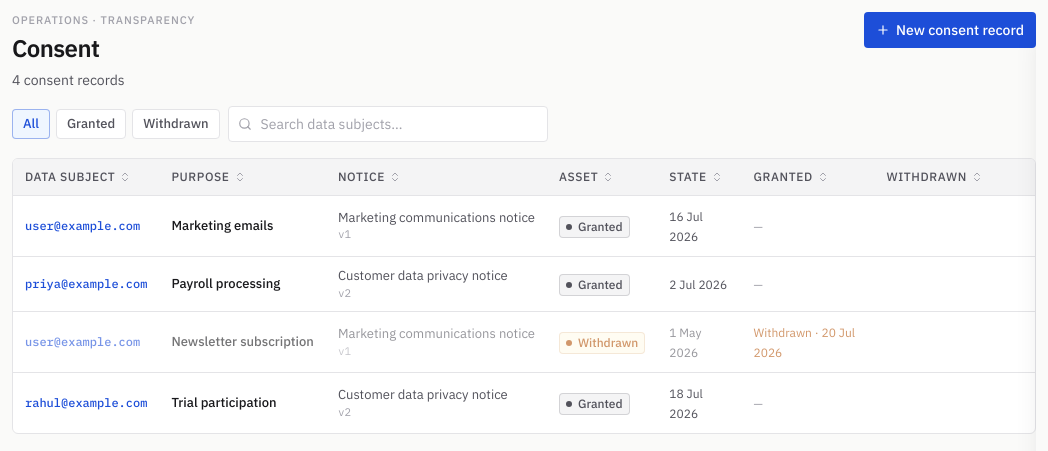
Test case: ConsentView (§9.5) › filters by state and searches data subjects
The image size is (1048, 451).
Expected: the text "Marketing emails" is shown, [171,217,273,234]
Step 1. Click the 1st button "Withdrawn" → (176, 124), box [132,109,220,139]
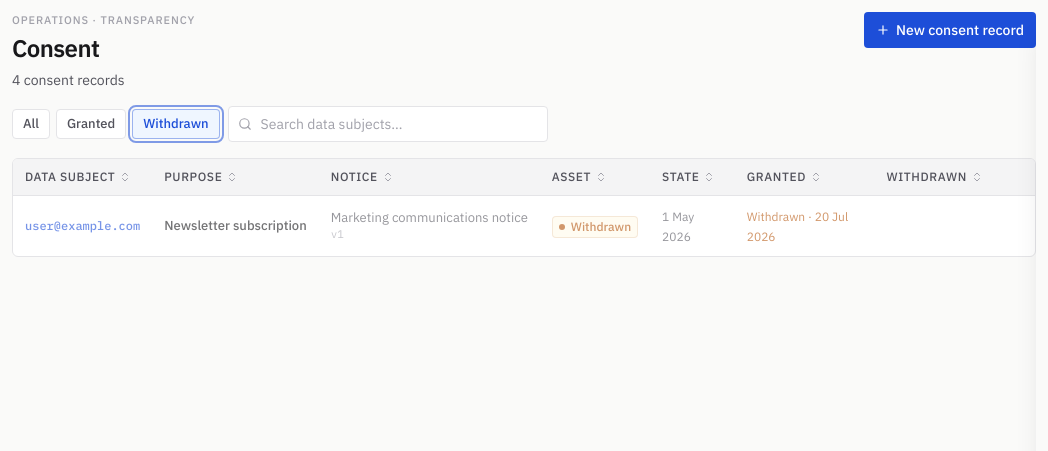
Expected: the text "Newsletter subscription" is shown, [164,217,307,235]
Expected: the text "Marketing emails" is gone
Step 2. Click the button "All" → (31, 124), box [12,109,50,139]
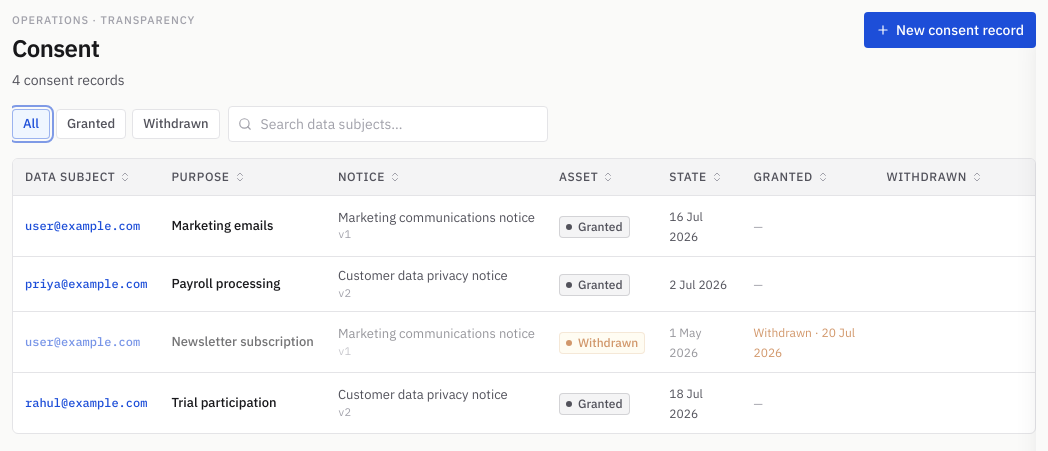
Step 3. Type "rahul" into the search field labelled "Search data subjects" → (388, 124), box [228,106,548,142]
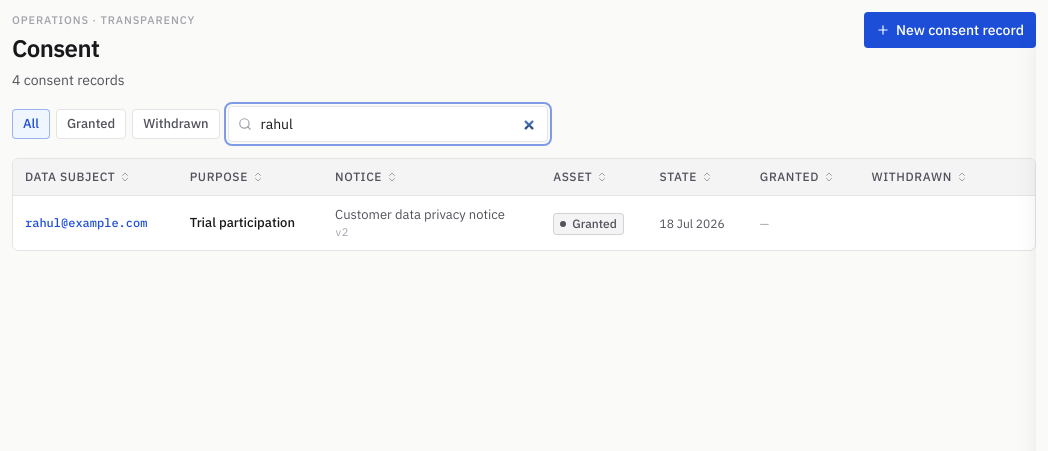
Expected: the text "Trial participation" is shown, [190,214,311,232]
Expected: the text "user@example.com" is gone
